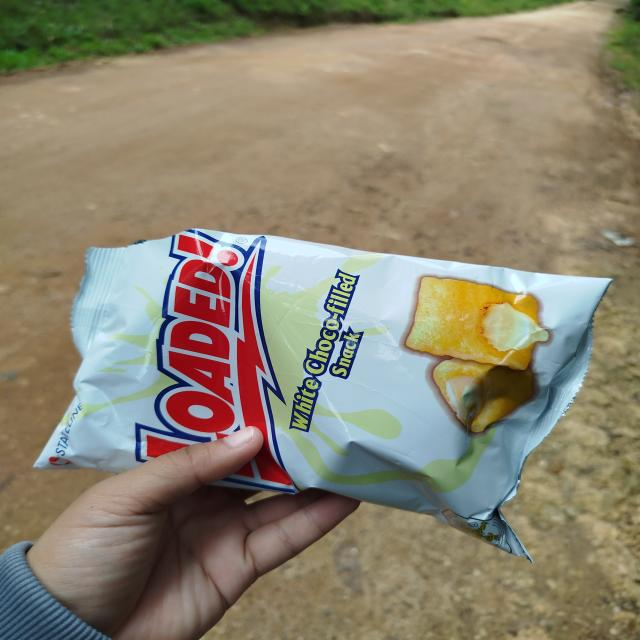residual: (30, 206, 624, 574)
